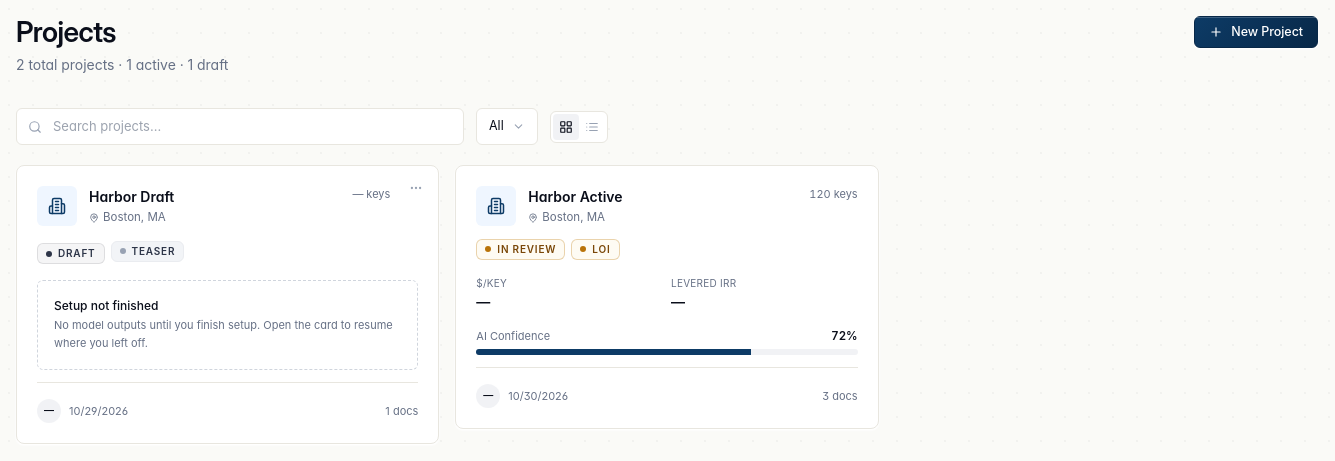
Projects list — the Drafts filter › offers Drafts beside All and narrows to drafts; a status filter excludes drafts
Click the button "All" at [507, 127], box [476, 108, 538, 145]
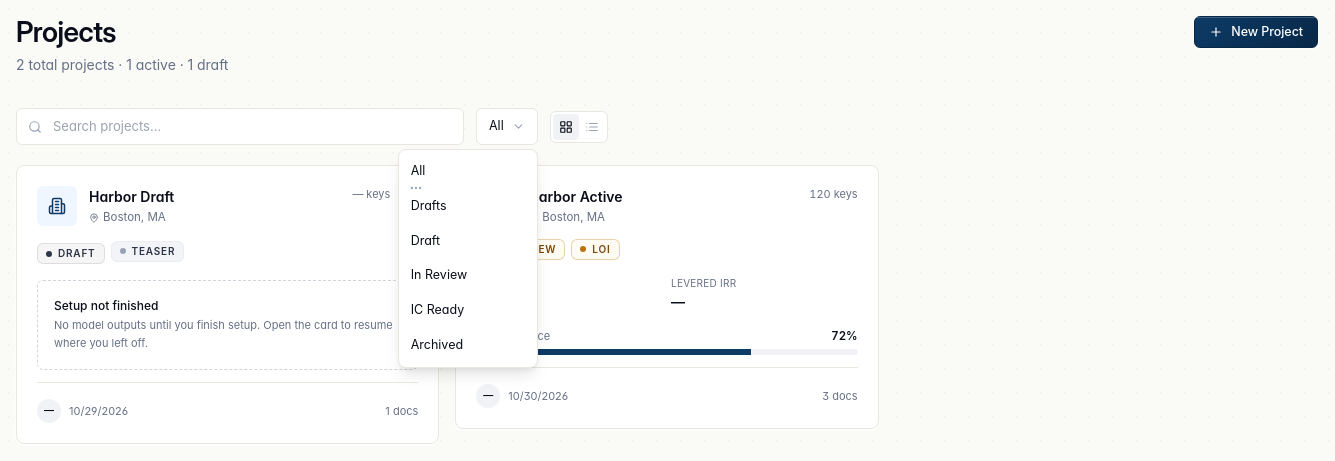
Click the button "Drafts" at [468, 206], box [399, 189, 537, 224]
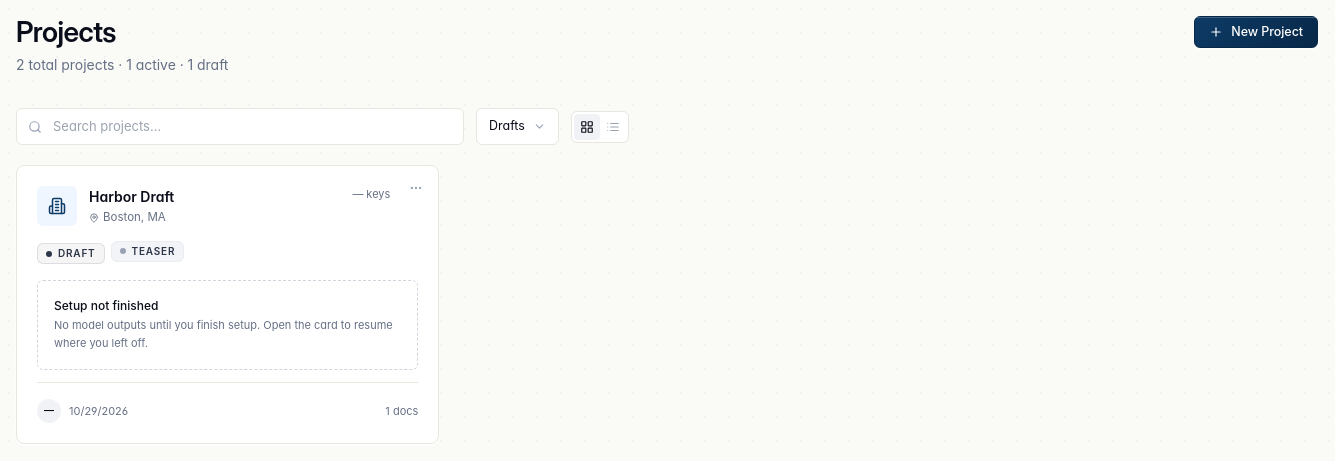
Expected: the link with test id "draft-card" is shown, [16, 165, 439, 444]
Result: the link "Harbor Active" is gone
Click the button "Drafts" at [517, 127], box [476, 108, 559, 145]
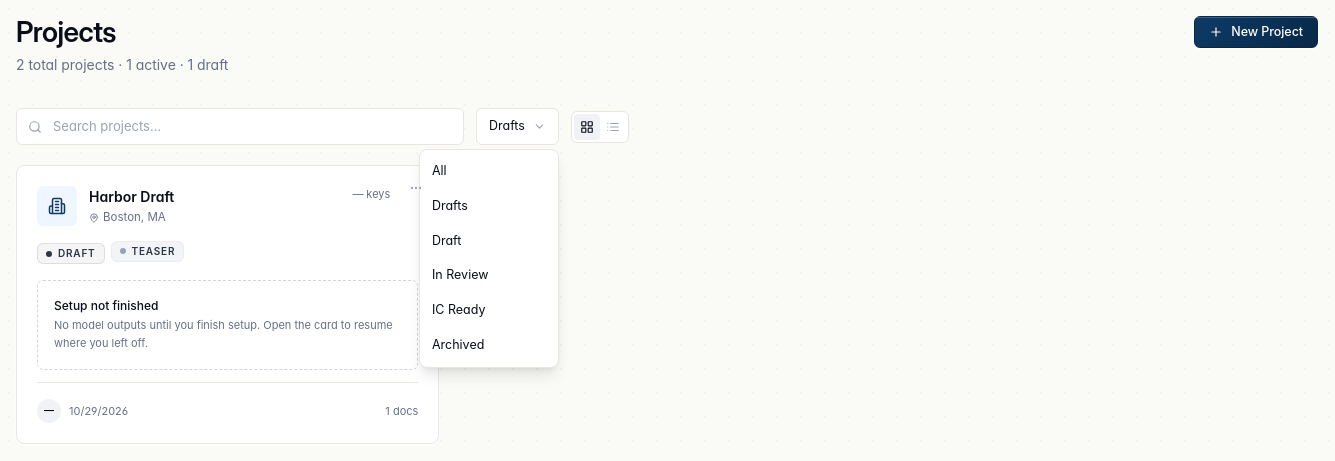
Click the button "In Review" at [489, 276], box [420, 258, 558, 293]
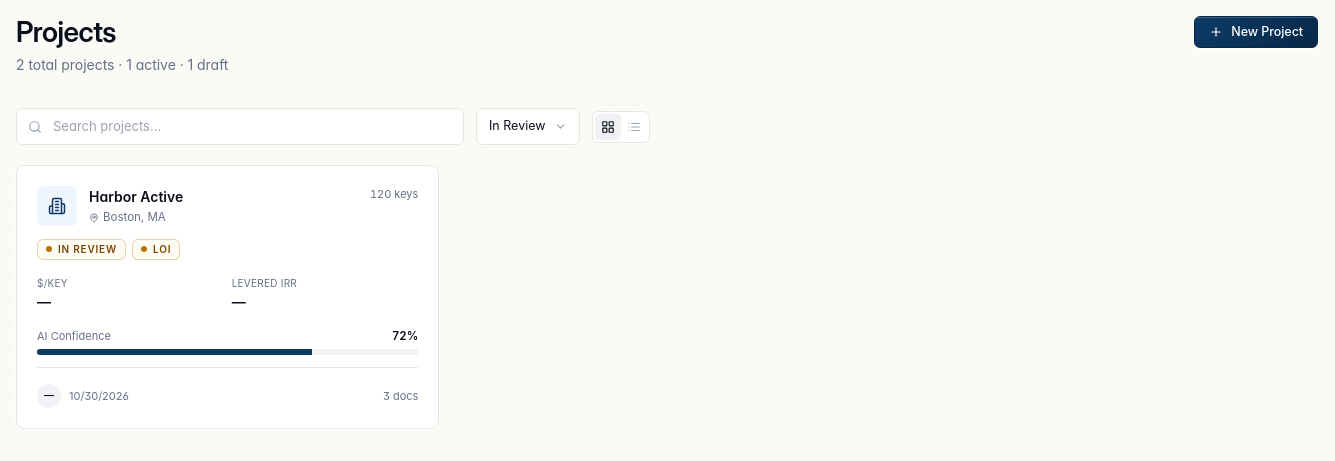
Result: the link with test id "draft-card" is gone
Result: the text "Harbor Active" is shown at [89, 186, 183, 207]
